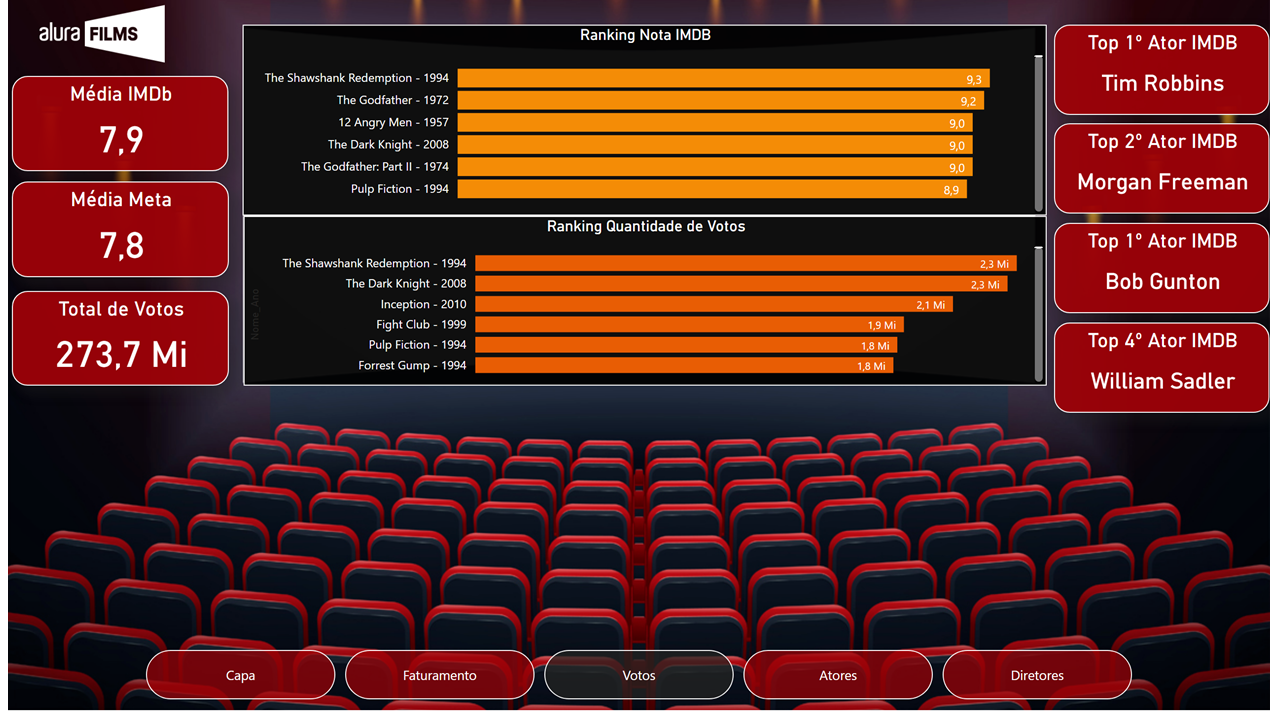

This screenshot's page, from the dashboard's own definition file:
{"tool":"powerbi","page":{"name":"Votos","canvas":[1280,720],"ordinal":2},"visuals":[{"type":"image","box":[0,0,190.7,68.7],"z":0},{"type":"card","title":"Média IMDb","fields":{"Values":["_Medidas.Media_IMDB"]},"box":[4.1,76.9,219.5,96.4],"z":1000},{"type":"card","title":"Total de Votos","fields":{"Values":["Sum(Filmes.Total_de_Votos)"]},"box":[4.3,294.6,219.9,96.1],"z":2000},{"type":"card","title":"Média Meta","fields":{"Values":["_Medidas.Media_META"]},"box":[4.3,183.6,219.9,97.1],"z":3000},{"type":"barChart","title":"Ranking Nota IMDB","fields":{"Category":["Filmes.Nome_Ano"],"Y":["_Medidas.Media_IMDB"]},"box":[237.7,25.2,815.3,193.3],"z":4000},{"type":"barChart","title":"Ranking Quantidade de Votos","fields":{"Y":["_Medidas.Total_Votos"],"Category":["Gêneros.Nome_Ano"]},"box":[239.1,218.8,814.5,171.9],"z":5000},{"type":"card","title":"Top 1º Ator IMDB","fields":{"Values":["_Medidas.Top_1_Ator_IMDB"]},"box":[1061.5,25.2,218.5,91.3],"z":6000},{"type":"card","title":"Top 2º Ator IMDB","fields":{"Values":["_Medidas.Top_2_Ator_IMDB"]},"box":[1061.5,124.9,218.5,91.3],"z":7000},{"type":"card","title":"Top 1º Ator IMDB","fields":{"Values":["_Medidas.Top_3_Ator_IMDB"]},"box":[1061.5,225.7,218.5,91.3],"z":8000},{"type":"card","title":"Top 4º Ator IMDB","fields":{"Values":["_Medidas.Top_4_Ator_IMDB"]},"box":[1061.5,326.6,218.5,91.3],"z":9000},{"type":"pageNavigator","title":"ad","box":[140.5,659.2,1000.2,50.4],"z":10000}]}

Visuals, with their boxes in screenshot pixels (x1, y1, x2, y2), scaled from the page's 1280x720 canvas onto the 1280x720 screenshot:
image: 0:0:191:69
"Média IMDb" card: 4:77:224:173
"Total de Votos" card: 4:295:224:391
"Média Meta" card: 4:184:224:281
"Ranking Nota IMDB" barChart: 238:25:1053:218
"Ranking Quantidade de Votos" barChart: 239:219:1054:391
"Top 1º Ator IMDB" card: 1062:25:1279:116
"Top 2º Ator IMDB" card: 1062:125:1279:216
"Top 1º Ator IMDB" card: 1062:226:1279:317
"Top 4º Ator IMDB" card: 1062:327:1279:418
"ad" pageNavigator: 140:659:1141:710
